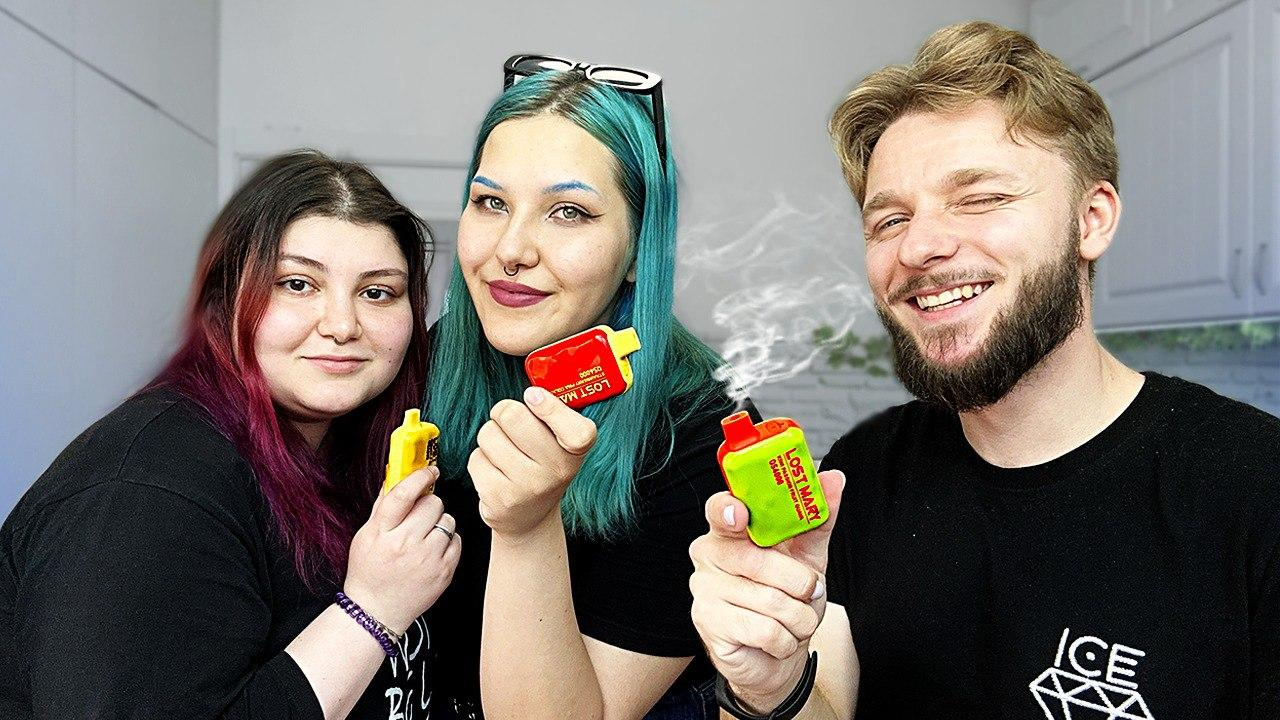Vape: (717, 411, 829, 546), (524, 325, 640, 410), (385, 408, 439, 494)
